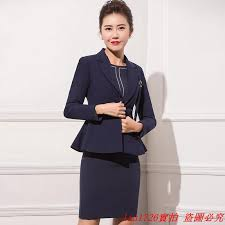F_tailored skirt: (65, 153, 149, 221)
